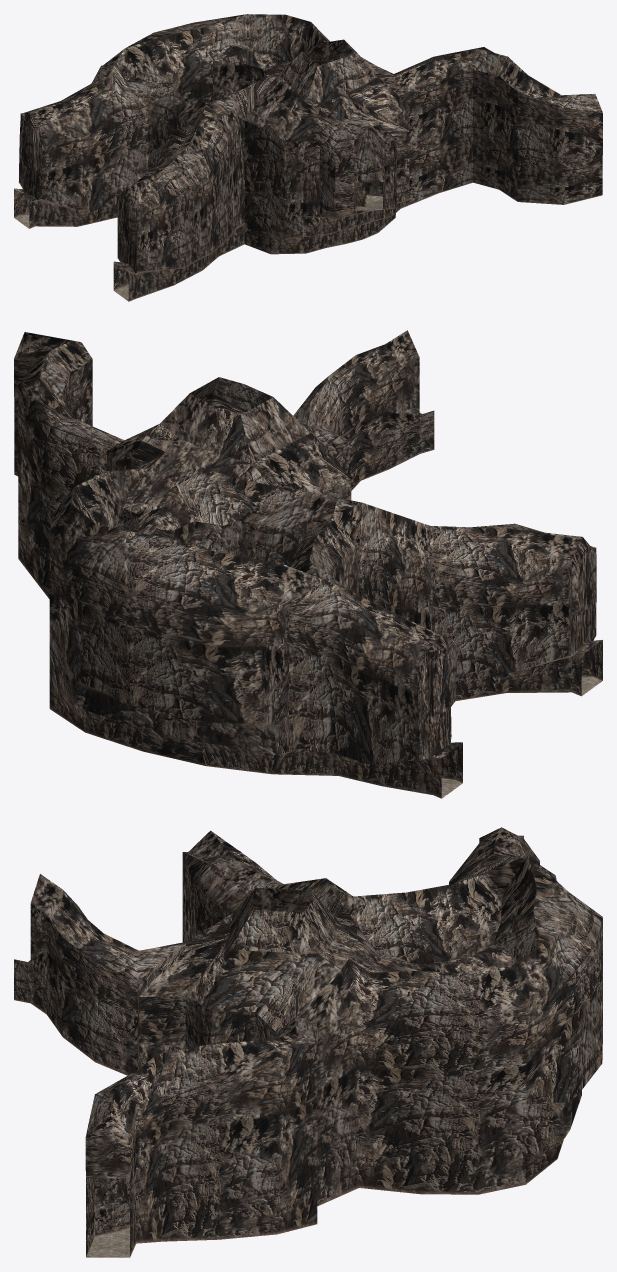
3 renders of one model, top to bottom at view 1: azimuth 30°, elevation 25°; view 2: azimuth 150°, elevation 25°; view 3: azimuth 270°, elevation 25°, orthographic. The views are drawn at different scales.
Parts seen in each view (by area): view 1: h4; view 2: h4; view 3: h4.
Part boxes in pixels (x1=…): h4: x1=14, y1=14, x2=602, y2=301; h4: x1=14, y1=330, x2=602, y2=798; h4: x1=14, y1=827, x2=602, y2=1257.
Size of the model in its own units: 1664 by 675 by 1323.
